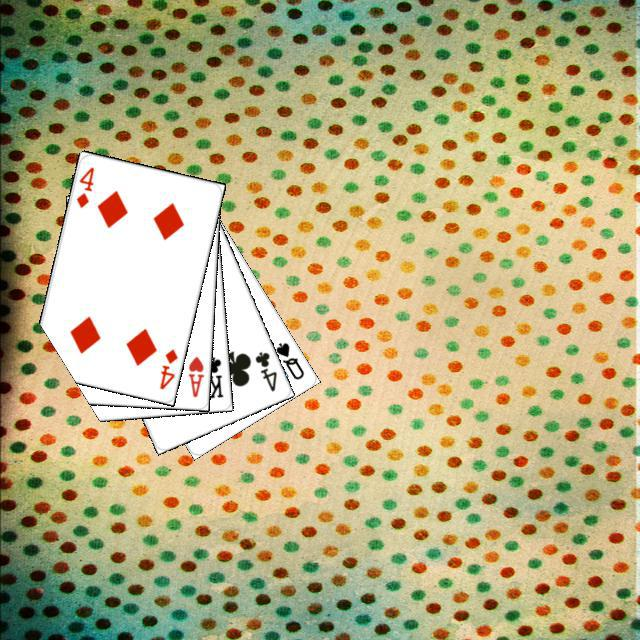4c: (250, 346, 279, 393)
4d: (71, 162, 96, 210), (155, 344, 179, 391)
Ah: (184, 351, 205, 399)
Kc: (197, 348, 225, 400)
Qs: (271, 337, 306, 381)
